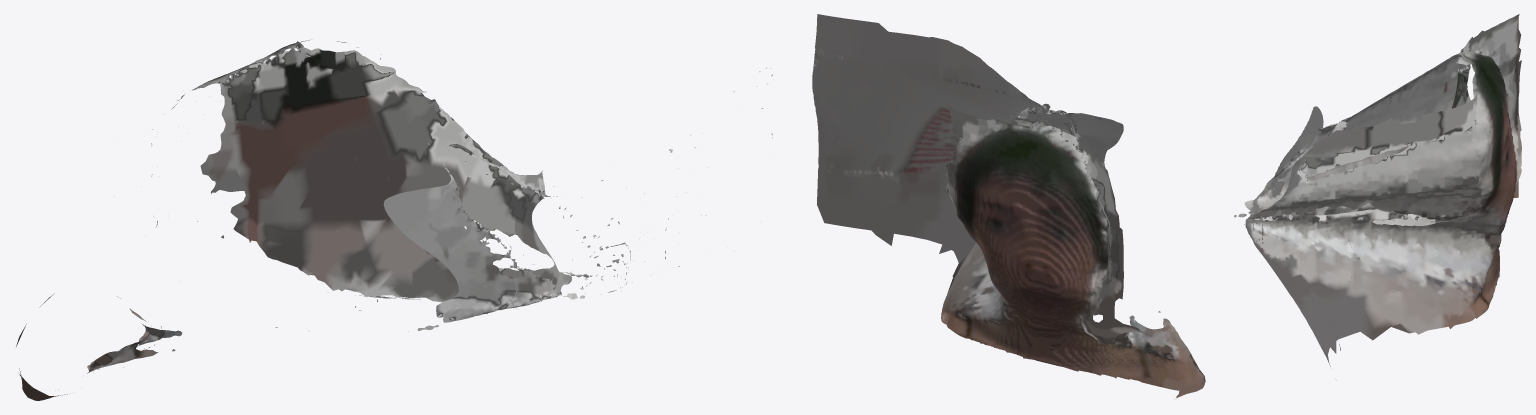
File: 3d_model_stitched_image_20250706_152430.gltf
3 renders of one model, left to right at view 1: azimuth 30°, elevation 25°; view 2: azimuth 150°, elevation 25°; view 3: azimuth 270°, elevation 25°, orthographic. The views are drawn at different scales.
Bounding box in the file's own units: 0.00161 × 0.000738 × 0.000874.
